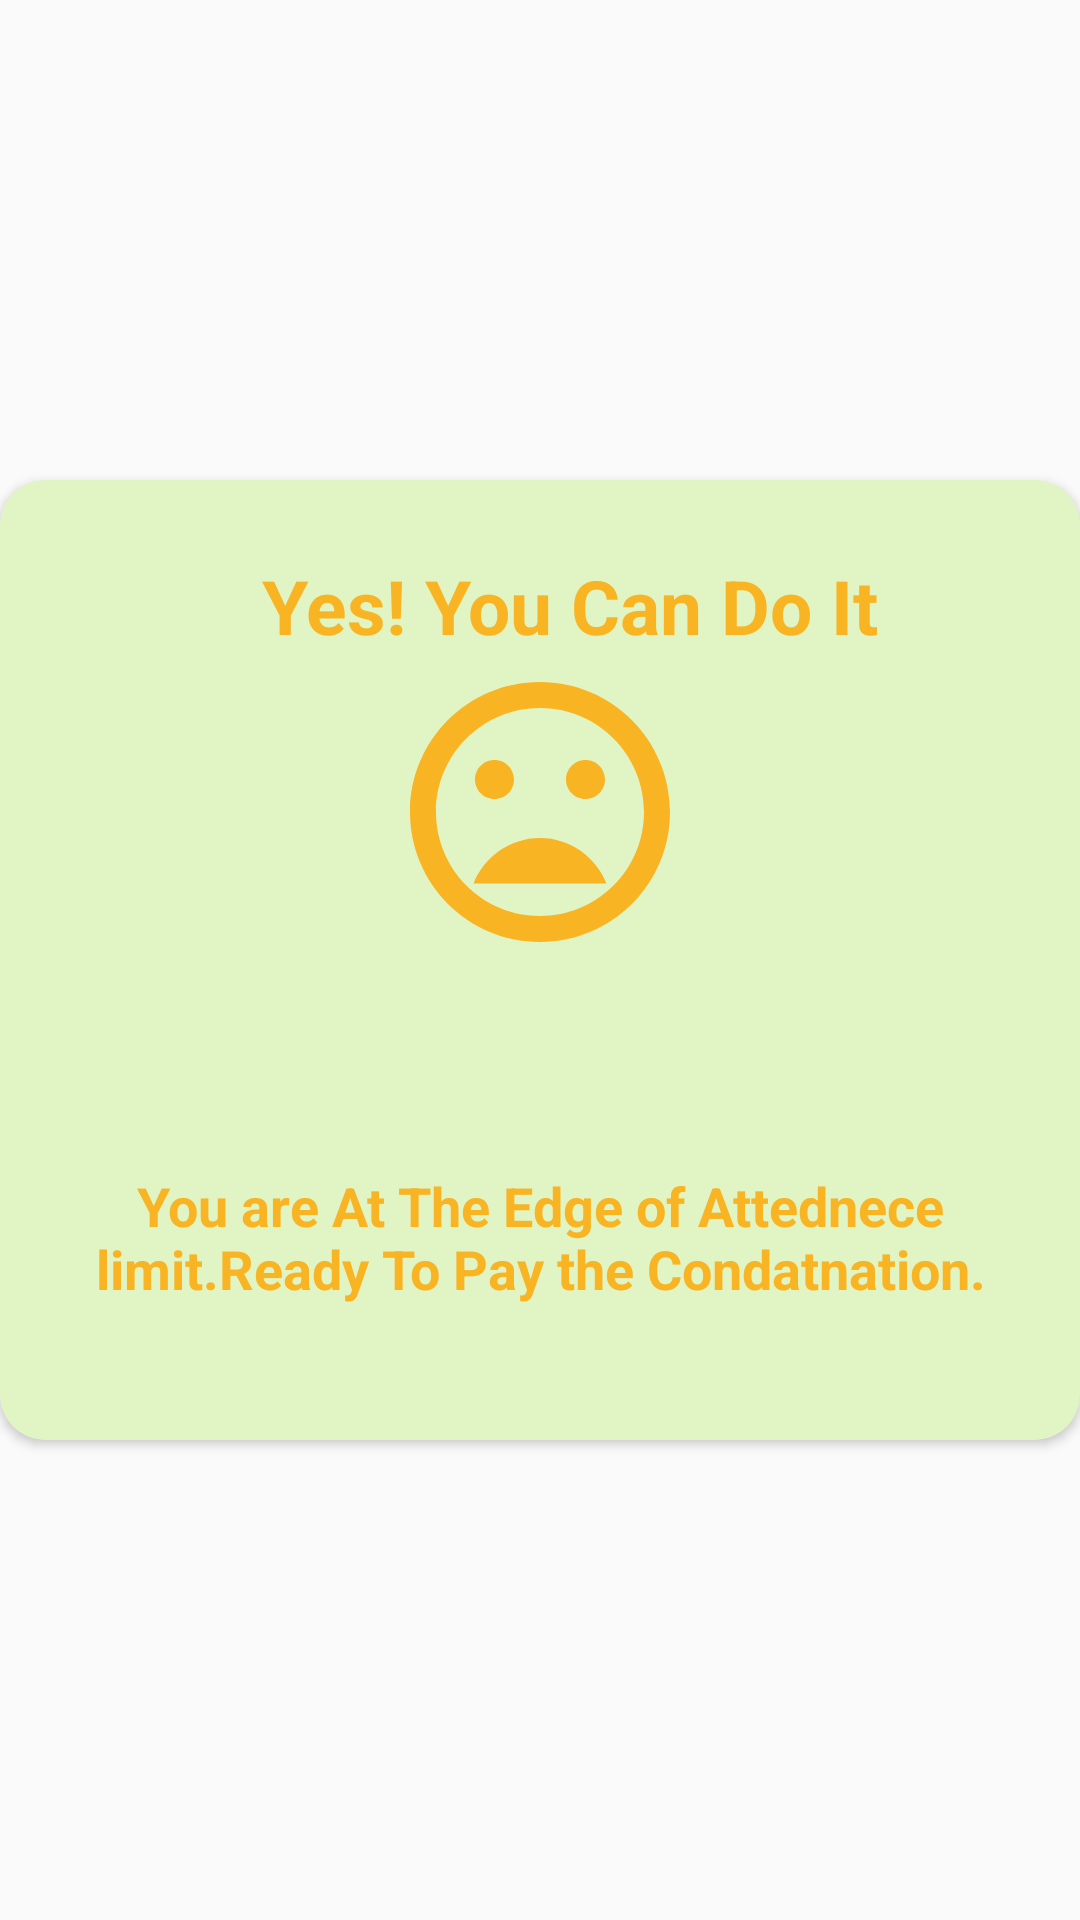

Icon click points for this 1080x1920 phone screenshot, format point (x, y):
neg: point (540, 812)
